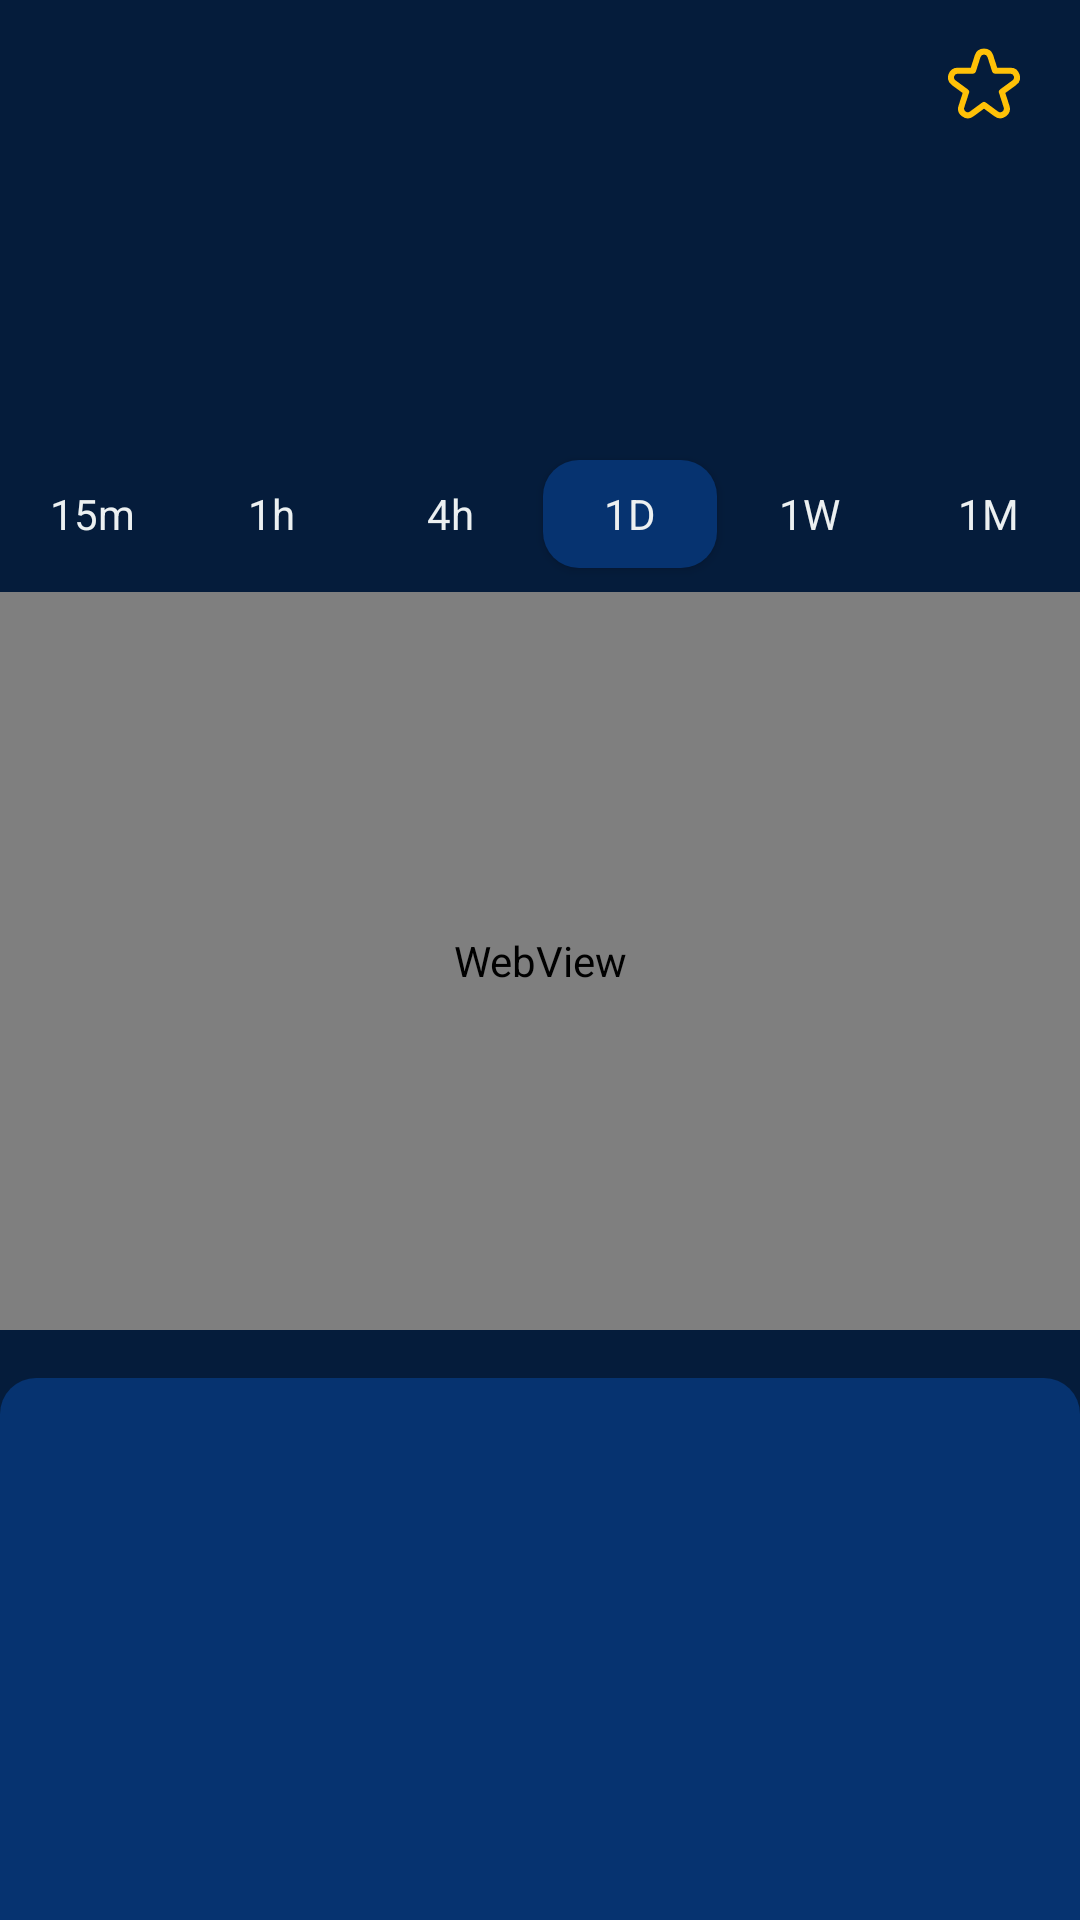

Icon bounding boxes for this 1080px x 1920px phone screenshot, format [x1=x1, y1=y1, x2=x2, y2=y2]:
star: [x1=948, y1=48, x2=1020, y2=119]
